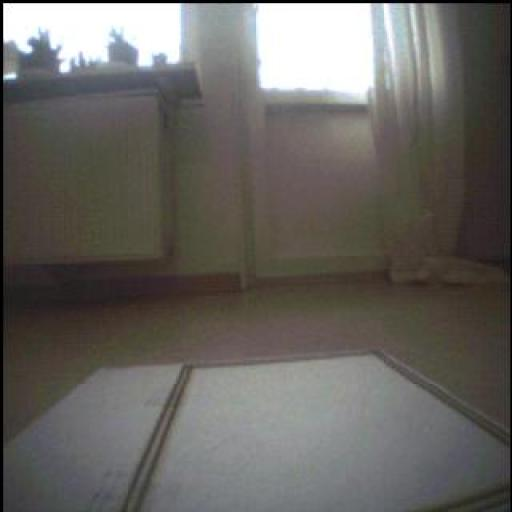Pad: (10, 351, 506, 512)
